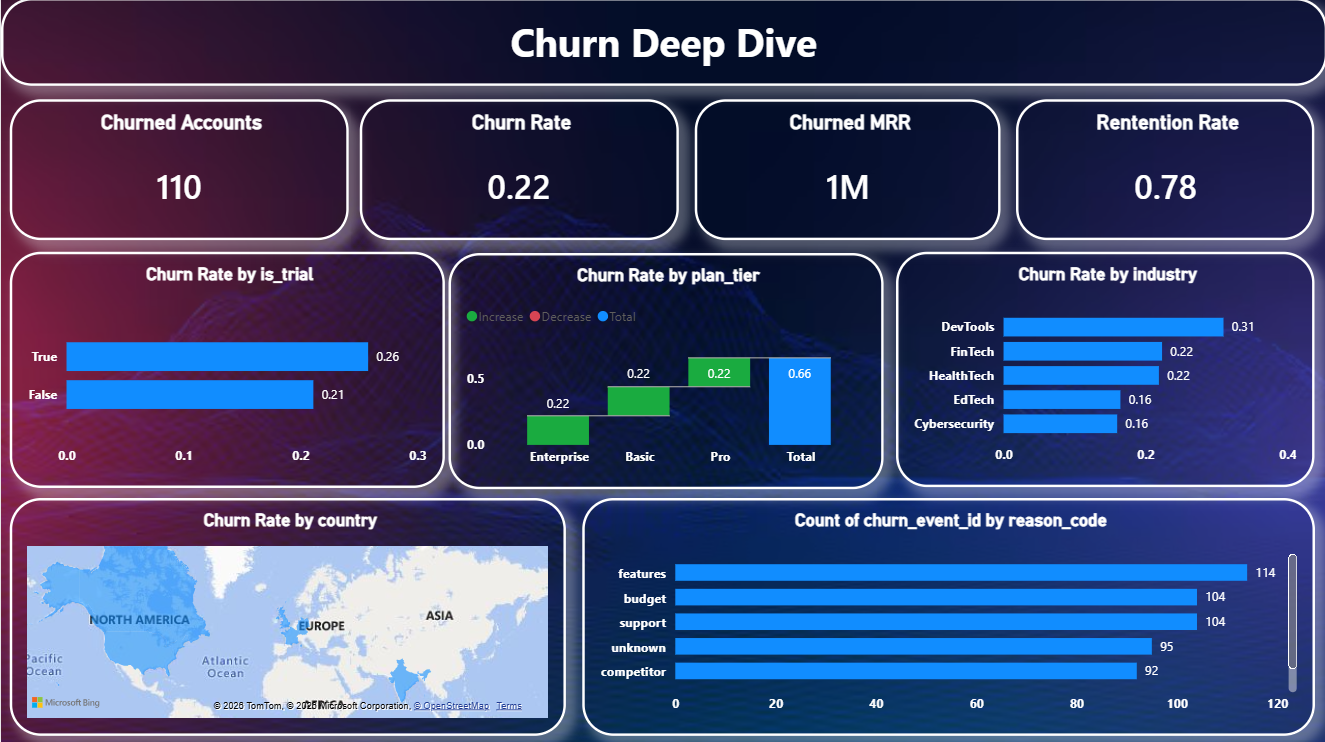

The dashboard page shown, as its layout file describes it:
{"tool":"powerbi","page":{"name":"CDD","canvas":[1280,720],"ordinal":1},"visuals":[{"type":"textbox","box":[0,0,1280.3,85.1],"z":0},{"type":"cardVisual","title":"Churned Accounts","fields":{"Data":["ravenstack_accounts.Churned Accounts"]},"box":[8.4,97.7,326.9,136.3],"z":1},{"type":"cardVisual","title":"Churn Rate","fields":{"Data":["ravenstack_accounts.Churn Rate"]},"box":[346.2,97.7,307.6,136.3],"z":2},{"type":"cardVisual","title":"Churned MRR","fields":{"Data":["ravenstack_subscriptions.Churned MRR"]},"box":[669.6,97.7,295.6,136.3],"z":3},{"type":"cardVisual","title":"Rentention Rate","fields":{"Data":["ravenstack_accounts.Retention Rate"]},"box":[979.6,97.7,288.3,136.3],"z":4},{"type":"clusteredBarChart","fields":{"Category":["ravenstack_accounts.is_trial"],"Y":["ravenstack_accounts.Churn Rate"]},"box":[8.4,244.9,419.8,228],"z":5},{"type":"filledMap","fields":{"Category":["ravenstack_accounts.country"]},"box":[8.4,482.6,536.9,229.2],"z":6},{"type":"clusteredBarChart","fields":{"Category":["ravenstack_accounts.industry"],"Y":["ravenstack_accounts.Churn Rate"]},"box":[863.8,244.9,404.2,226.8],"z":7},{"type":"waterfallChart","fields":{"Category":["ravenstack_accounts.plan_tier"],"Y":["ravenstack_accounts.Churn Rate"]},"box":[431.9,246.1,419.8,228],"z":8},{"type":"clusteredBarChart","fields":{"Category":["ravenstack_churn_events.reason_code"],"Y":["CountNonNull(ravenstack_churn_events.churn_event_id)"]},"box":[561,482.6,707,229.2],"z":9}]}

Visuals, with their boxes in screenshot pixels (x1, y1, x2, y2), scaled from the page's 1280x720 canvas onto the 1325x742 screenshot:
textbox: detection(0, 0, 1324, 88)
"Churned Accounts" cardVisual: detection(9, 101, 347, 241)
"Churn Rate" cardVisual: detection(358, 101, 677, 241)
"Churned MRR" cardVisual: detection(693, 101, 999, 241)
"Rentention Rate" cardVisual: detection(1014, 101, 1312, 241)
clusteredBarChart - ravenstack_accounts.is_trial x ravenstack_accounts.Churn Rate: detection(9, 252, 443, 487)
filledMap - ravenstack_accounts.country: detection(9, 497, 564, 734)
clusteredBarChart - ravenstack_accounts.industry x ravenstack_accounts.Churn Rate: detection(894, 252, 1313, 486)
waterfallChart - ravenstack_accounts.plan_tier x ravenstack_accounts.Churn Rate: detection(447, 254, 882, 489)
clusteredBarChart - ravenstack_churn_events.reason_code x CountNonNull(ravenstack_churn_events.churn_event_id): detection(581, 497, 1313, 734)
